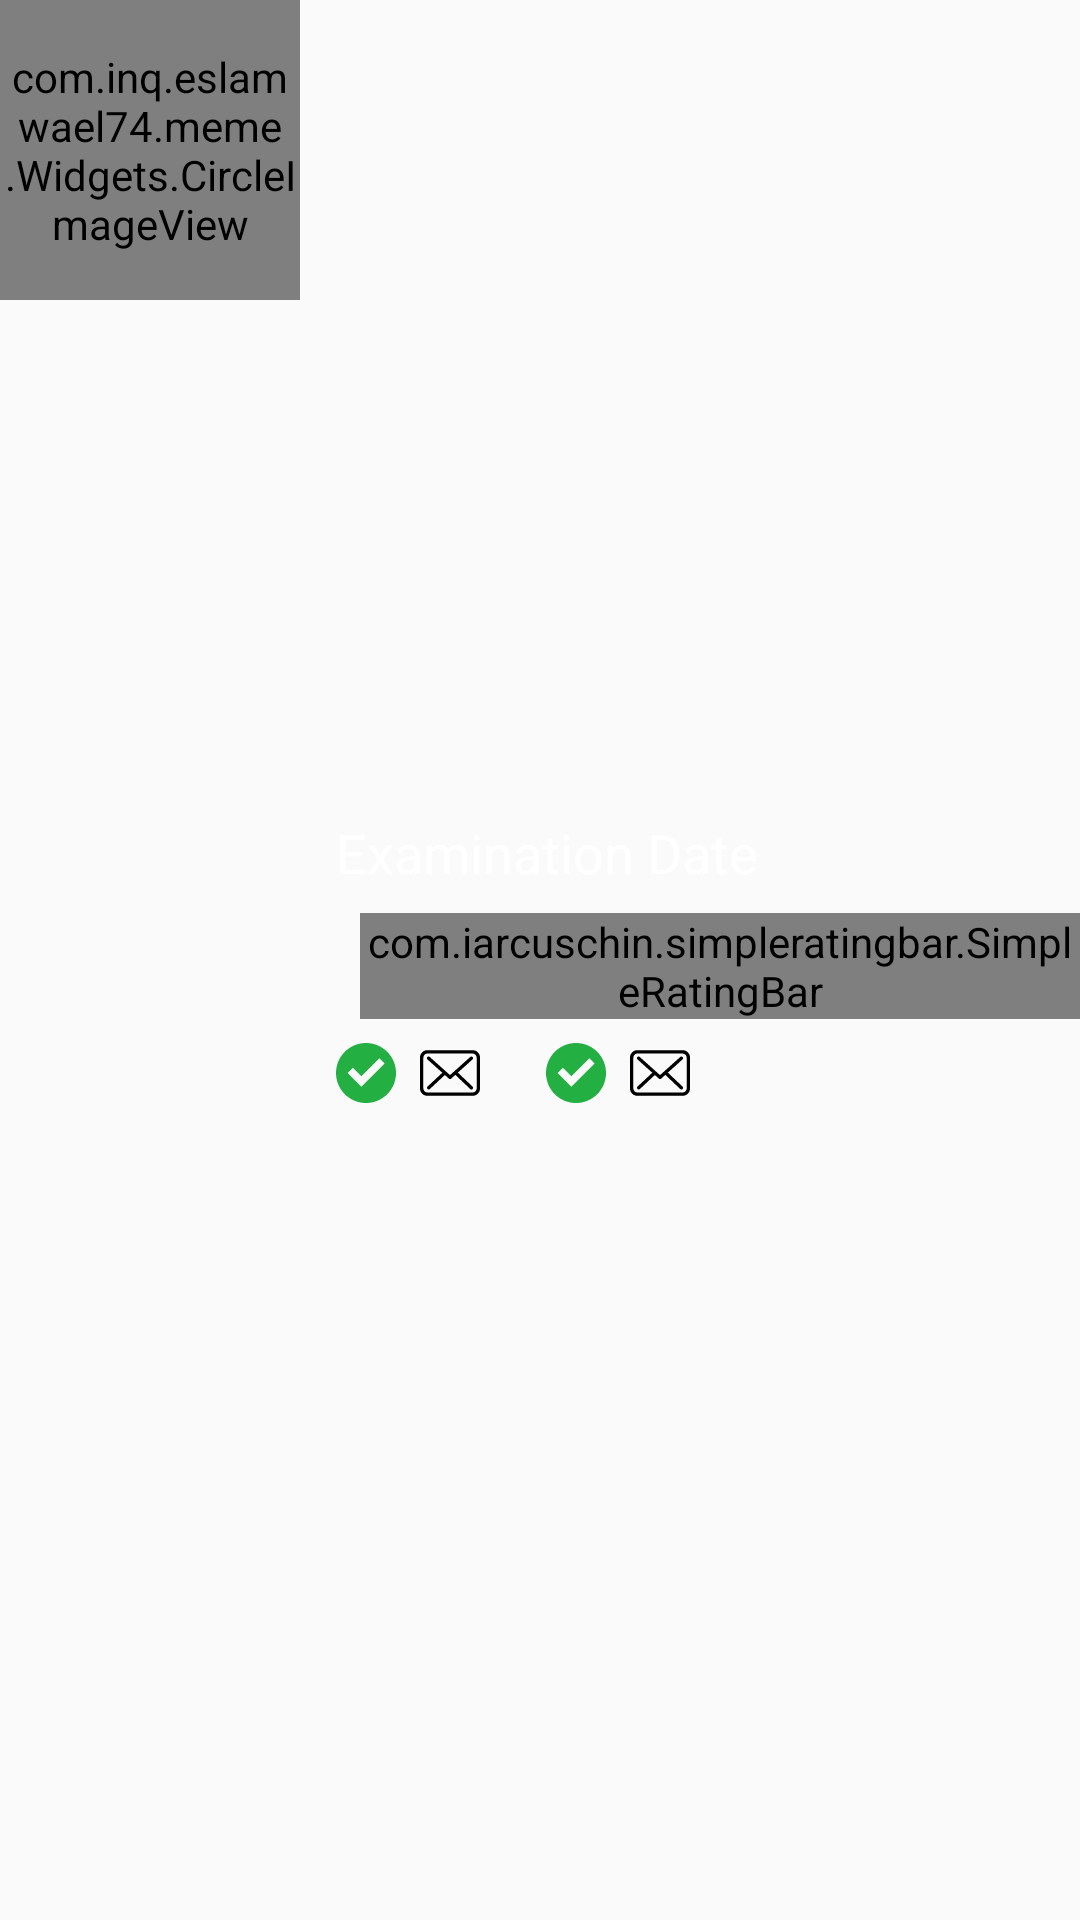

Icons on this 1080*1920 Android screen, each with the point to tap as (x,y):
message: (450,1073), (660,1073)
right: (366,1073), (576,1073)
